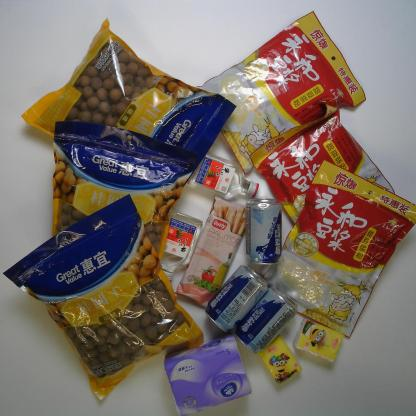Alcohol: (205, 265, 269, 335), (235, 289, 298, 357), (193, 149, 261, 201), (158, 210, 201, 284), (244, 197, 283, 266)
Dessert: (173, 196, 251, 309)
Dried Food: (6, 195, 204, 401), (23, 26, 235, 186), (50, 120, 199, 298)
Instant Drink: (203, 14, 370, 177), (259, 161, 414, 335), (247, 104, 398, 246)
Tissue: (167, 330, 252, 416), (256, 332, 302, 384), (292, 320, 344, 364)
